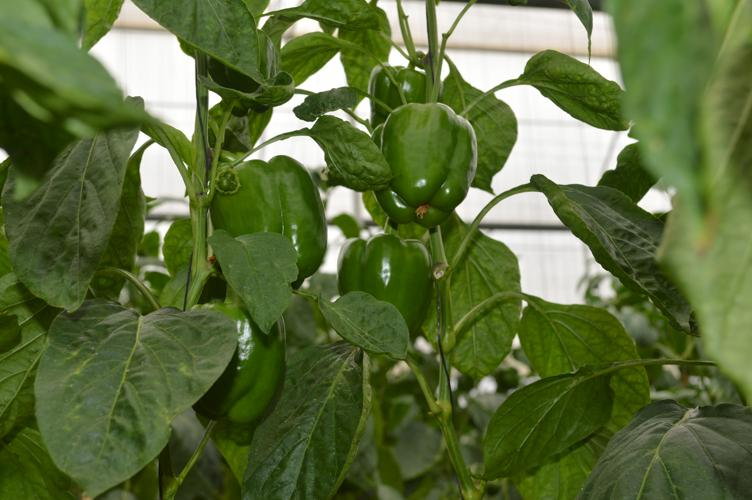BellPepper: (205, 159, 328, 295), (172, 298, 295, 431), (364, 108, 485, 235), (337, 234, 432, 335)
